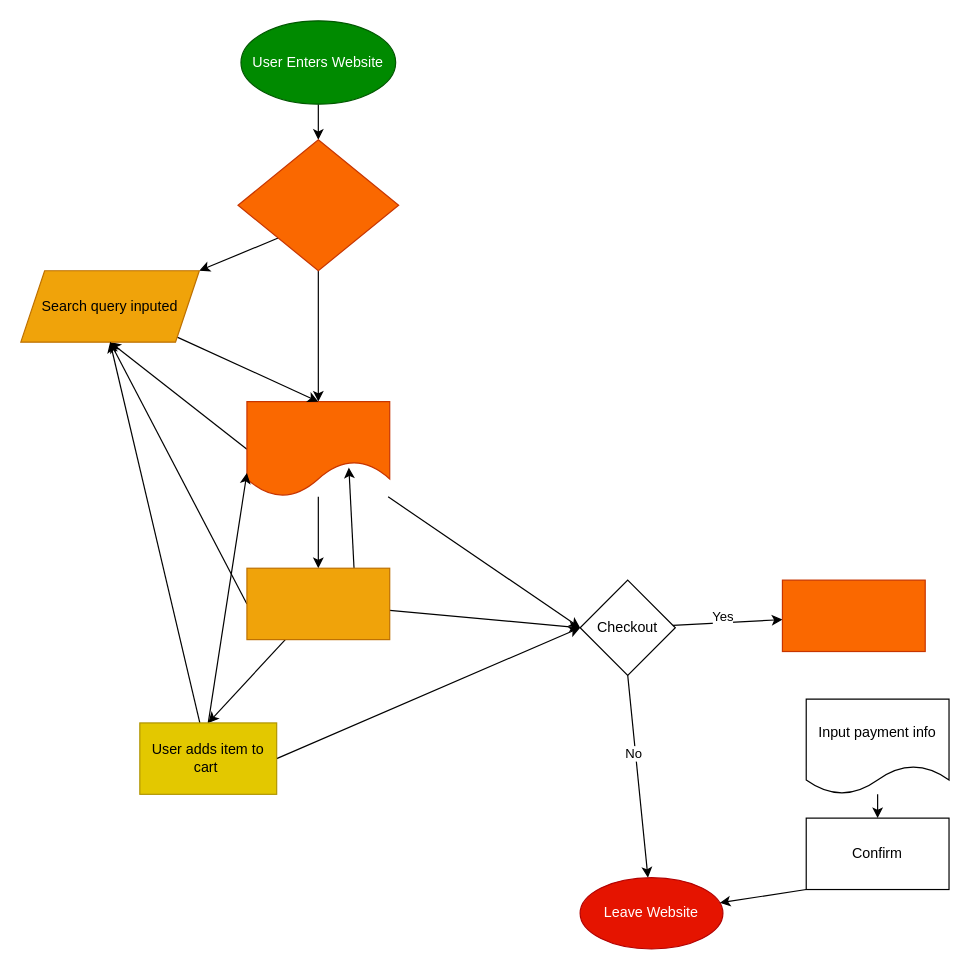
The diagram is 970 pixels wide and 970 high, and some of its shapes have lost their labels. The centre of each missing label's shape, as x and y in pixels:
"Products displayed to user" goes at (x=318, y=448).
"Prompted to pay" goes at (x=853, y=615).
"User looks at specifc product" goes at (x=318, y=603).
"User prompted to explore products or search" goes at (x=318, y=205).
